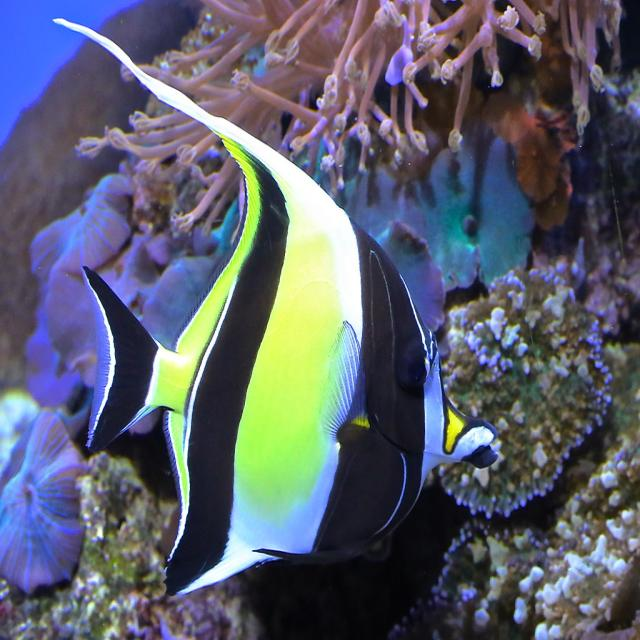MorishIdol: (49, 13, 502, 600)
